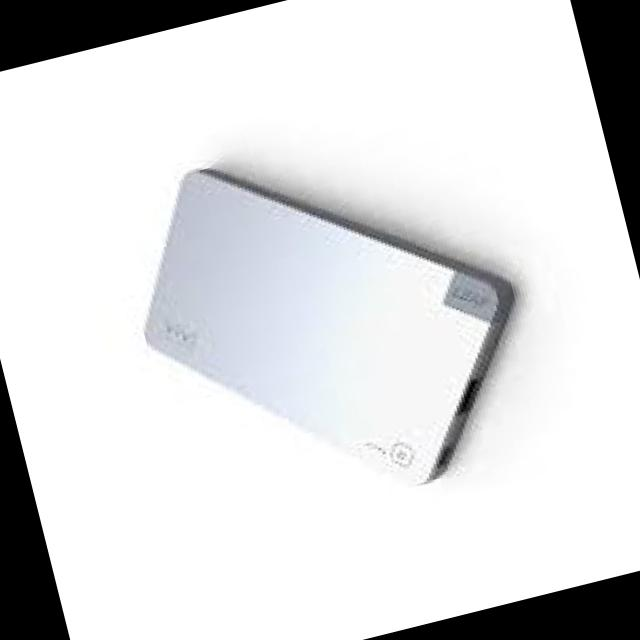power_bank: (105, 100, 560, 548)
